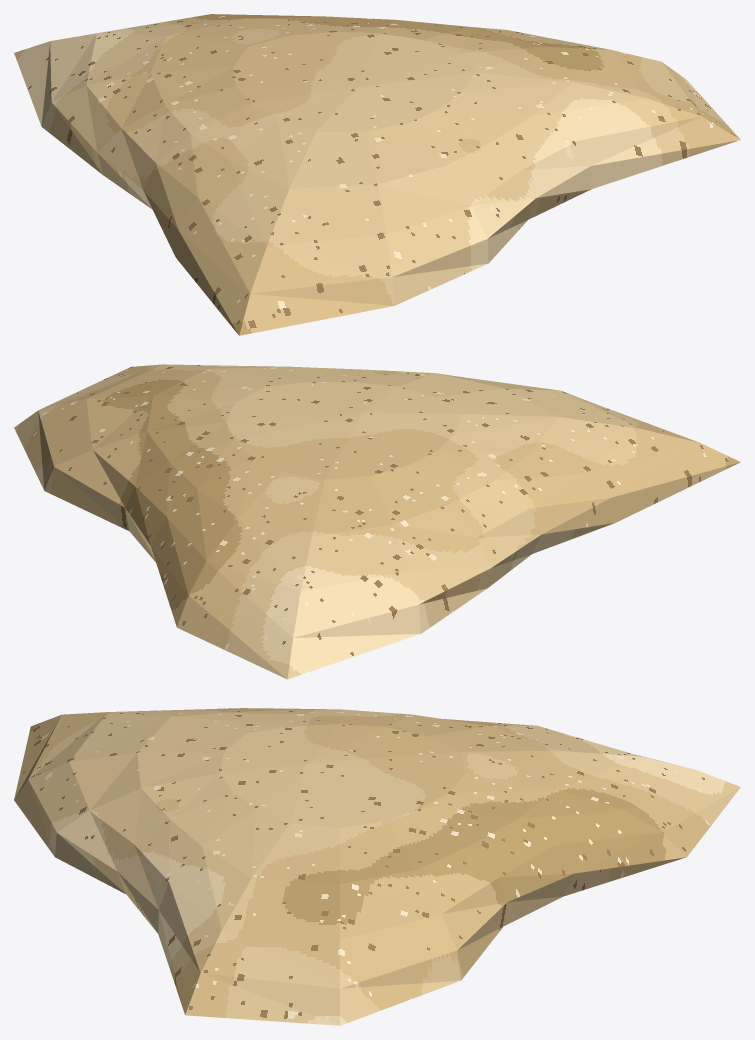
Rendered from island-v2-2.glb.
3 views of the same model, one above another, from view 1: azimuth 30°, elevation 25°; view 2: azimuth 150°, elevation 25°; view 3: azimuth 270°, elevation 25° (orthographic). The views are drawn at different scales.
Visible parts, largest first — view 1: Island-2; view 2: Island-2; view 3: Island-2.
Boxes of the visible parts, x1,y1,x2,y2 form: Island-2: (14, 14, 740, 335); Island-2: (14, 364, 740, 679); Island-2: (14, 708, 740, 1025).
Bounding box in the file's own units: 5.62 × 0.7889 × 5.77.
Materials: 1 (1 with a texture image).
